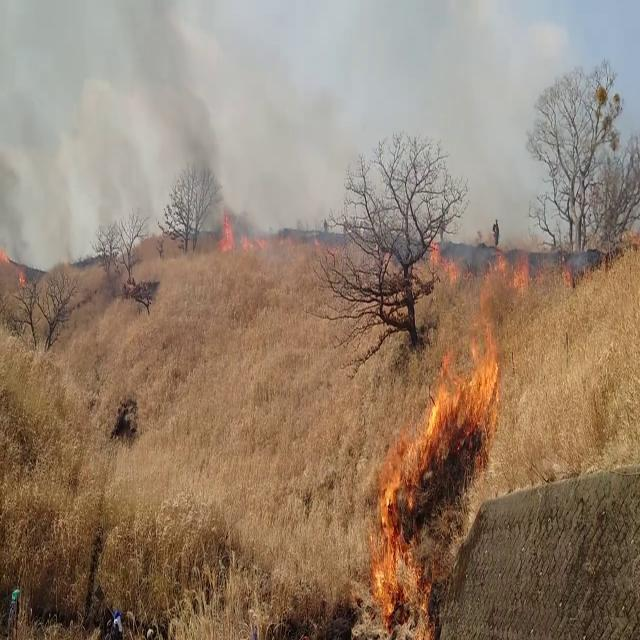Fire: (372, 290, 504, 620), (496, 240, 534, 294), (215, 206, 239, 256)
Smoke: (0, 0, 257, 251)
